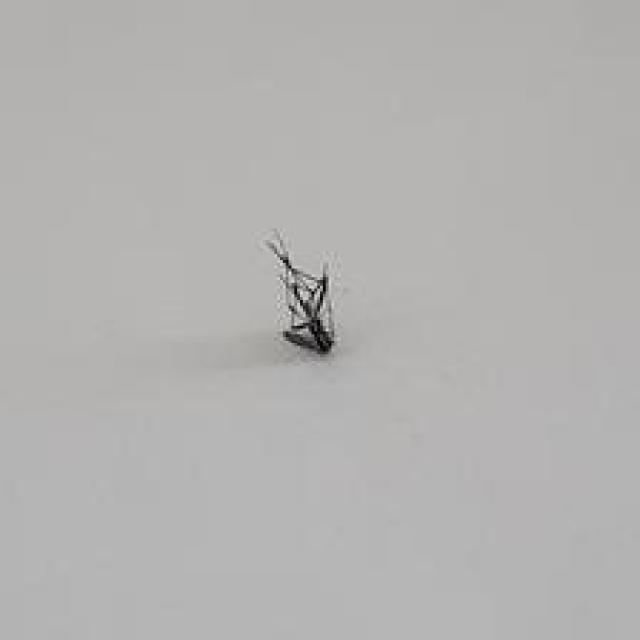Aedes albopictus: (263, 227, 337, 356)
